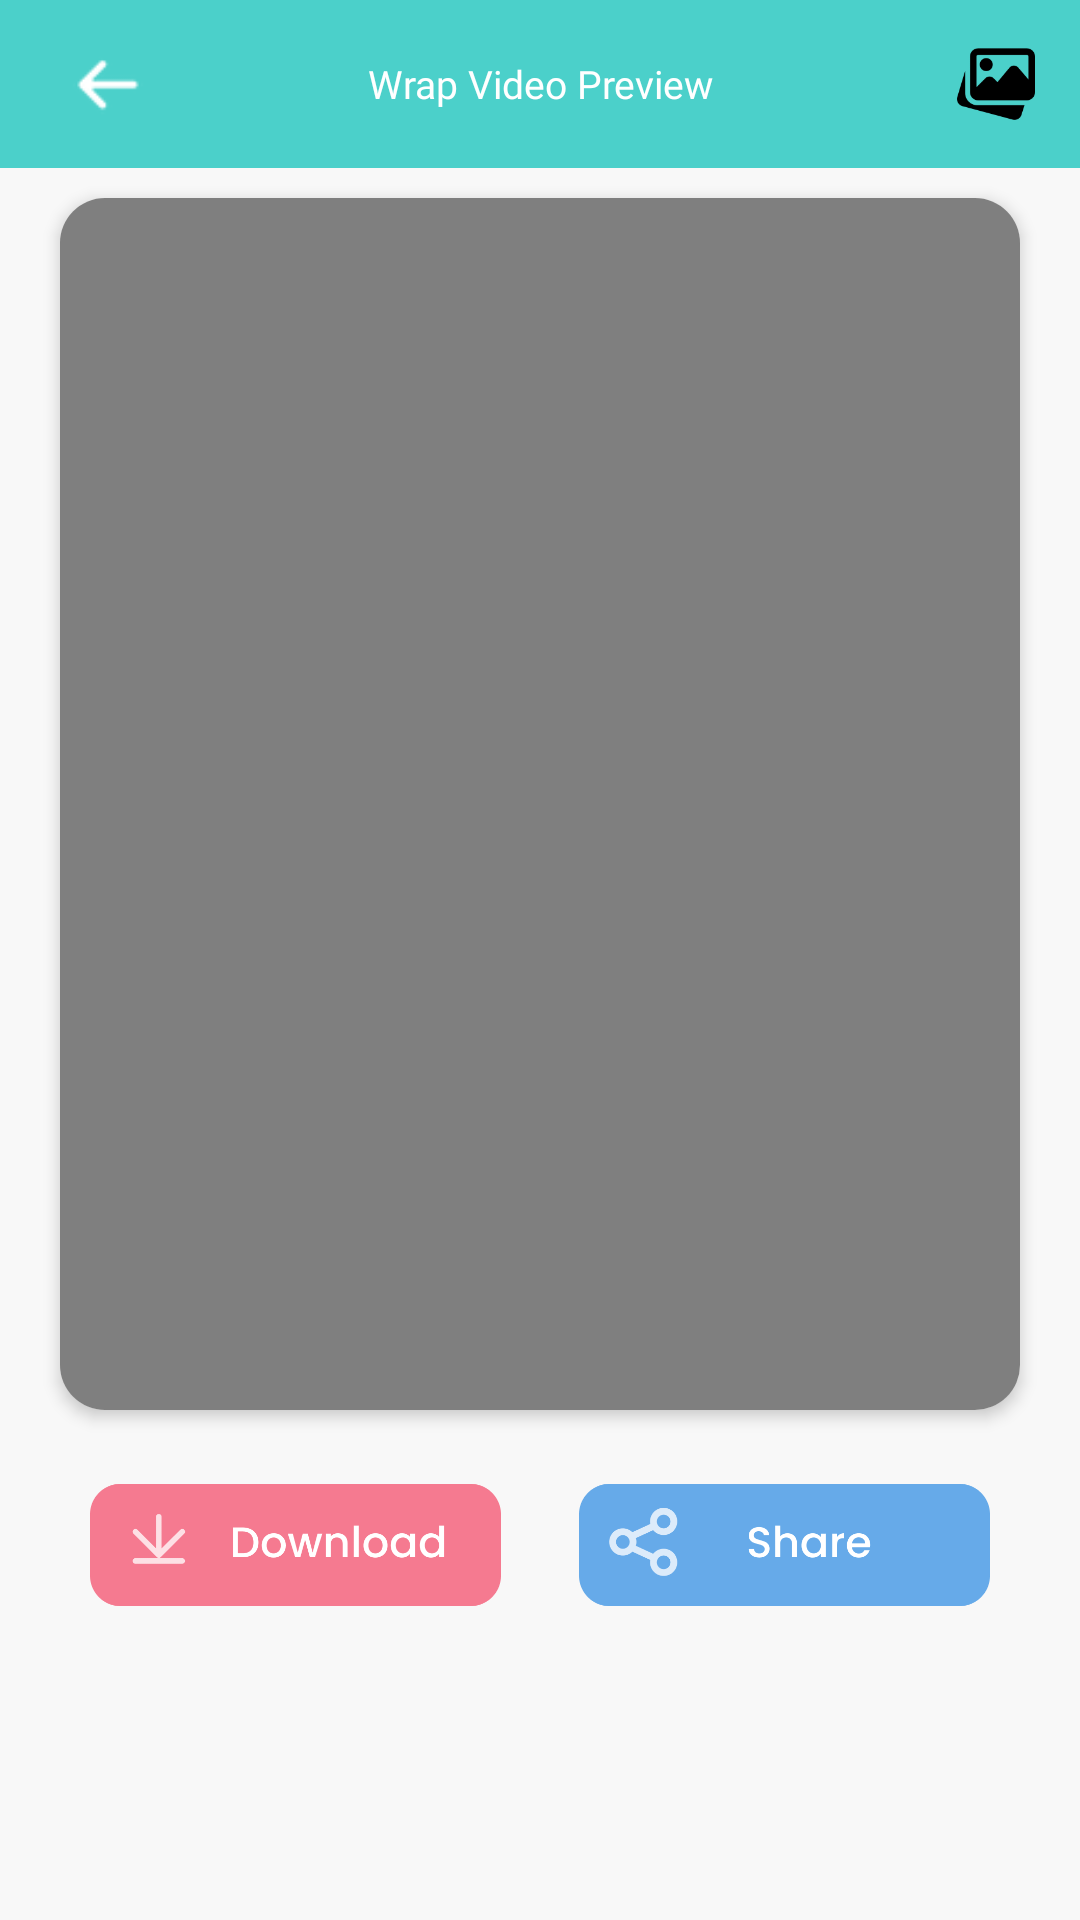

Where icons sit on this 1080x1920 app screen, as (x1, y1, x2, y2):
back: (77, 60, 139, 110)
